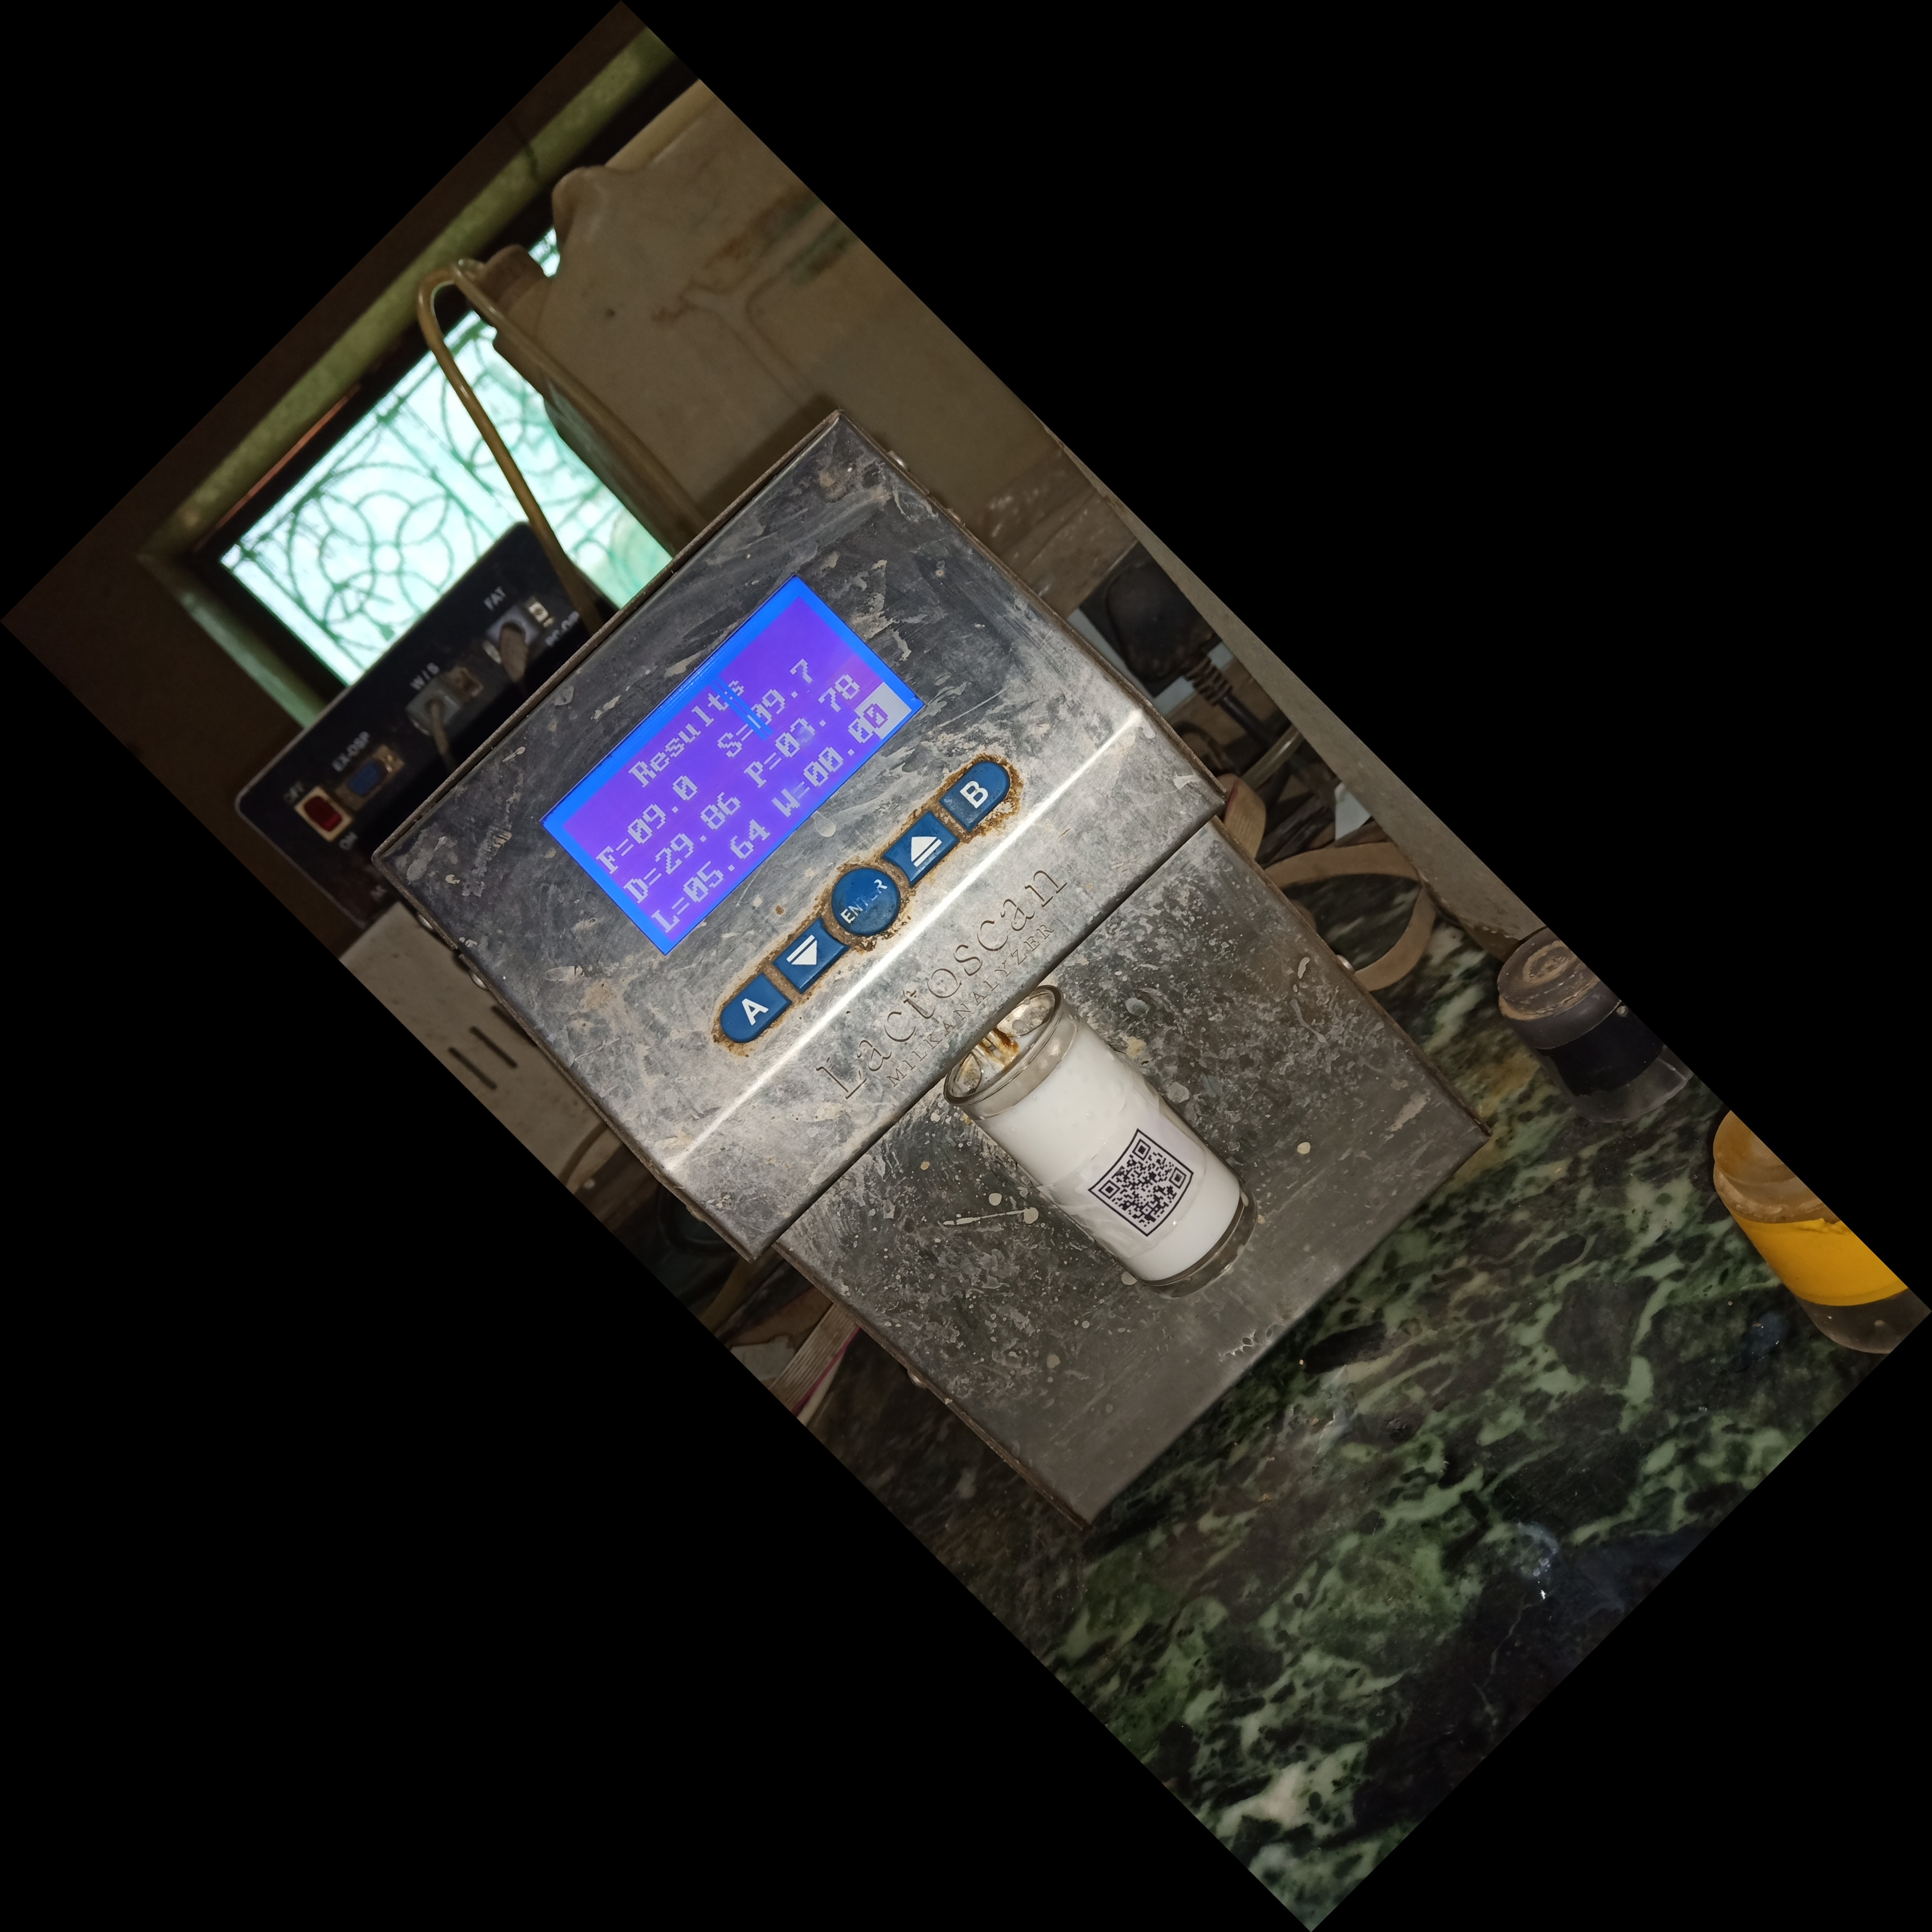lcd: (552, 568, 932, 975)
qr: (1079, 1120, 1192, 1247)
